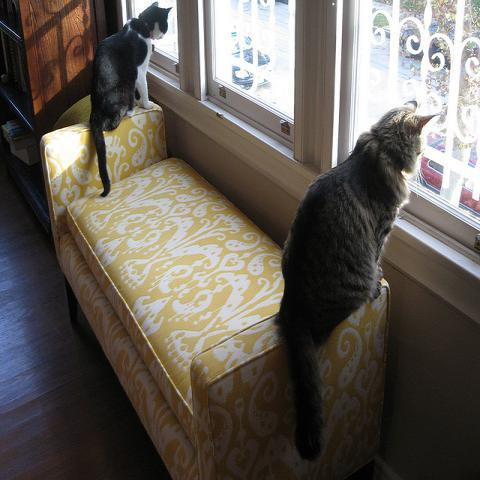car: (411, 131, 479, 222), (232, 30, 275, 87)
